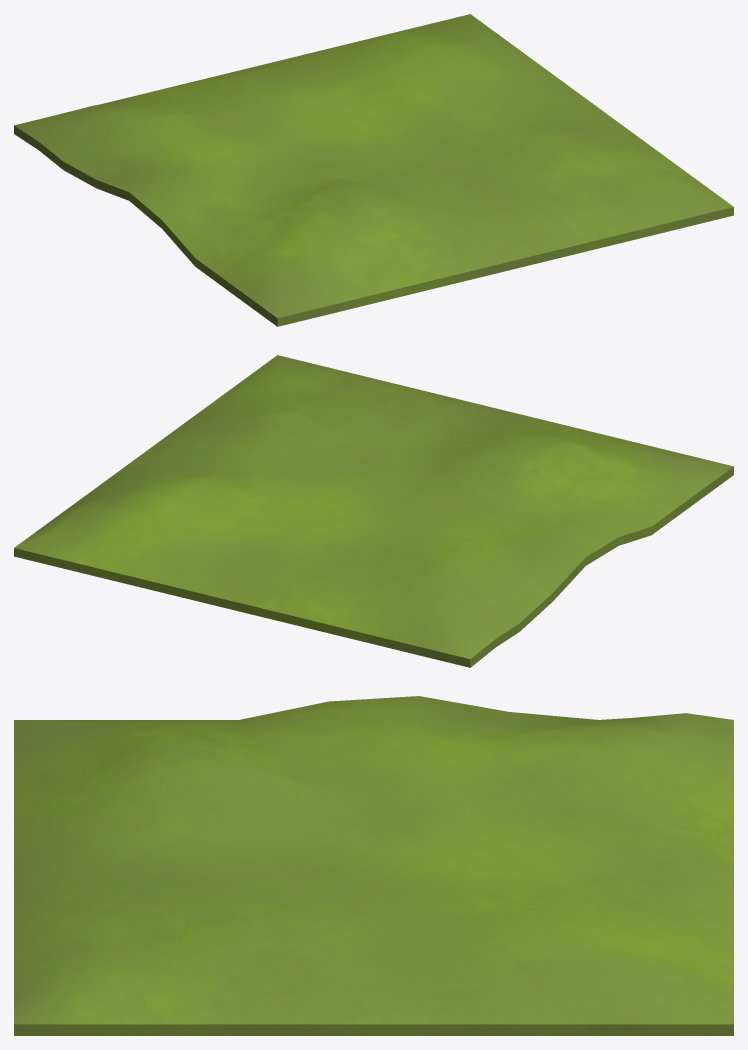
The model's file is model_nature_1.fbx.
The picture shows the model from 3 angles, top to bottom: view 1: azimuth 30°, elevation 25°; view 2: azimuth 150°, elevation 25°; view 3: azimuth 270°, elevation 25°; orthographic projection. The views are drawn at different scales.
Parts seen in each view (by area): view 1: pPlane1; view 2: pPlane1; view 3: pPlane1.
Boxes of the visible parts, x1=… form: pPlane1: x1=14, y1=14, x2=733, y2=326; pPlane1: x1=14, y1=355, x2=733, y2=667; pPlane1: x1=14, y1=696, x2=733, y2=1035.
Bounding box in the file's own units: 212 × 20.54 × 212.
